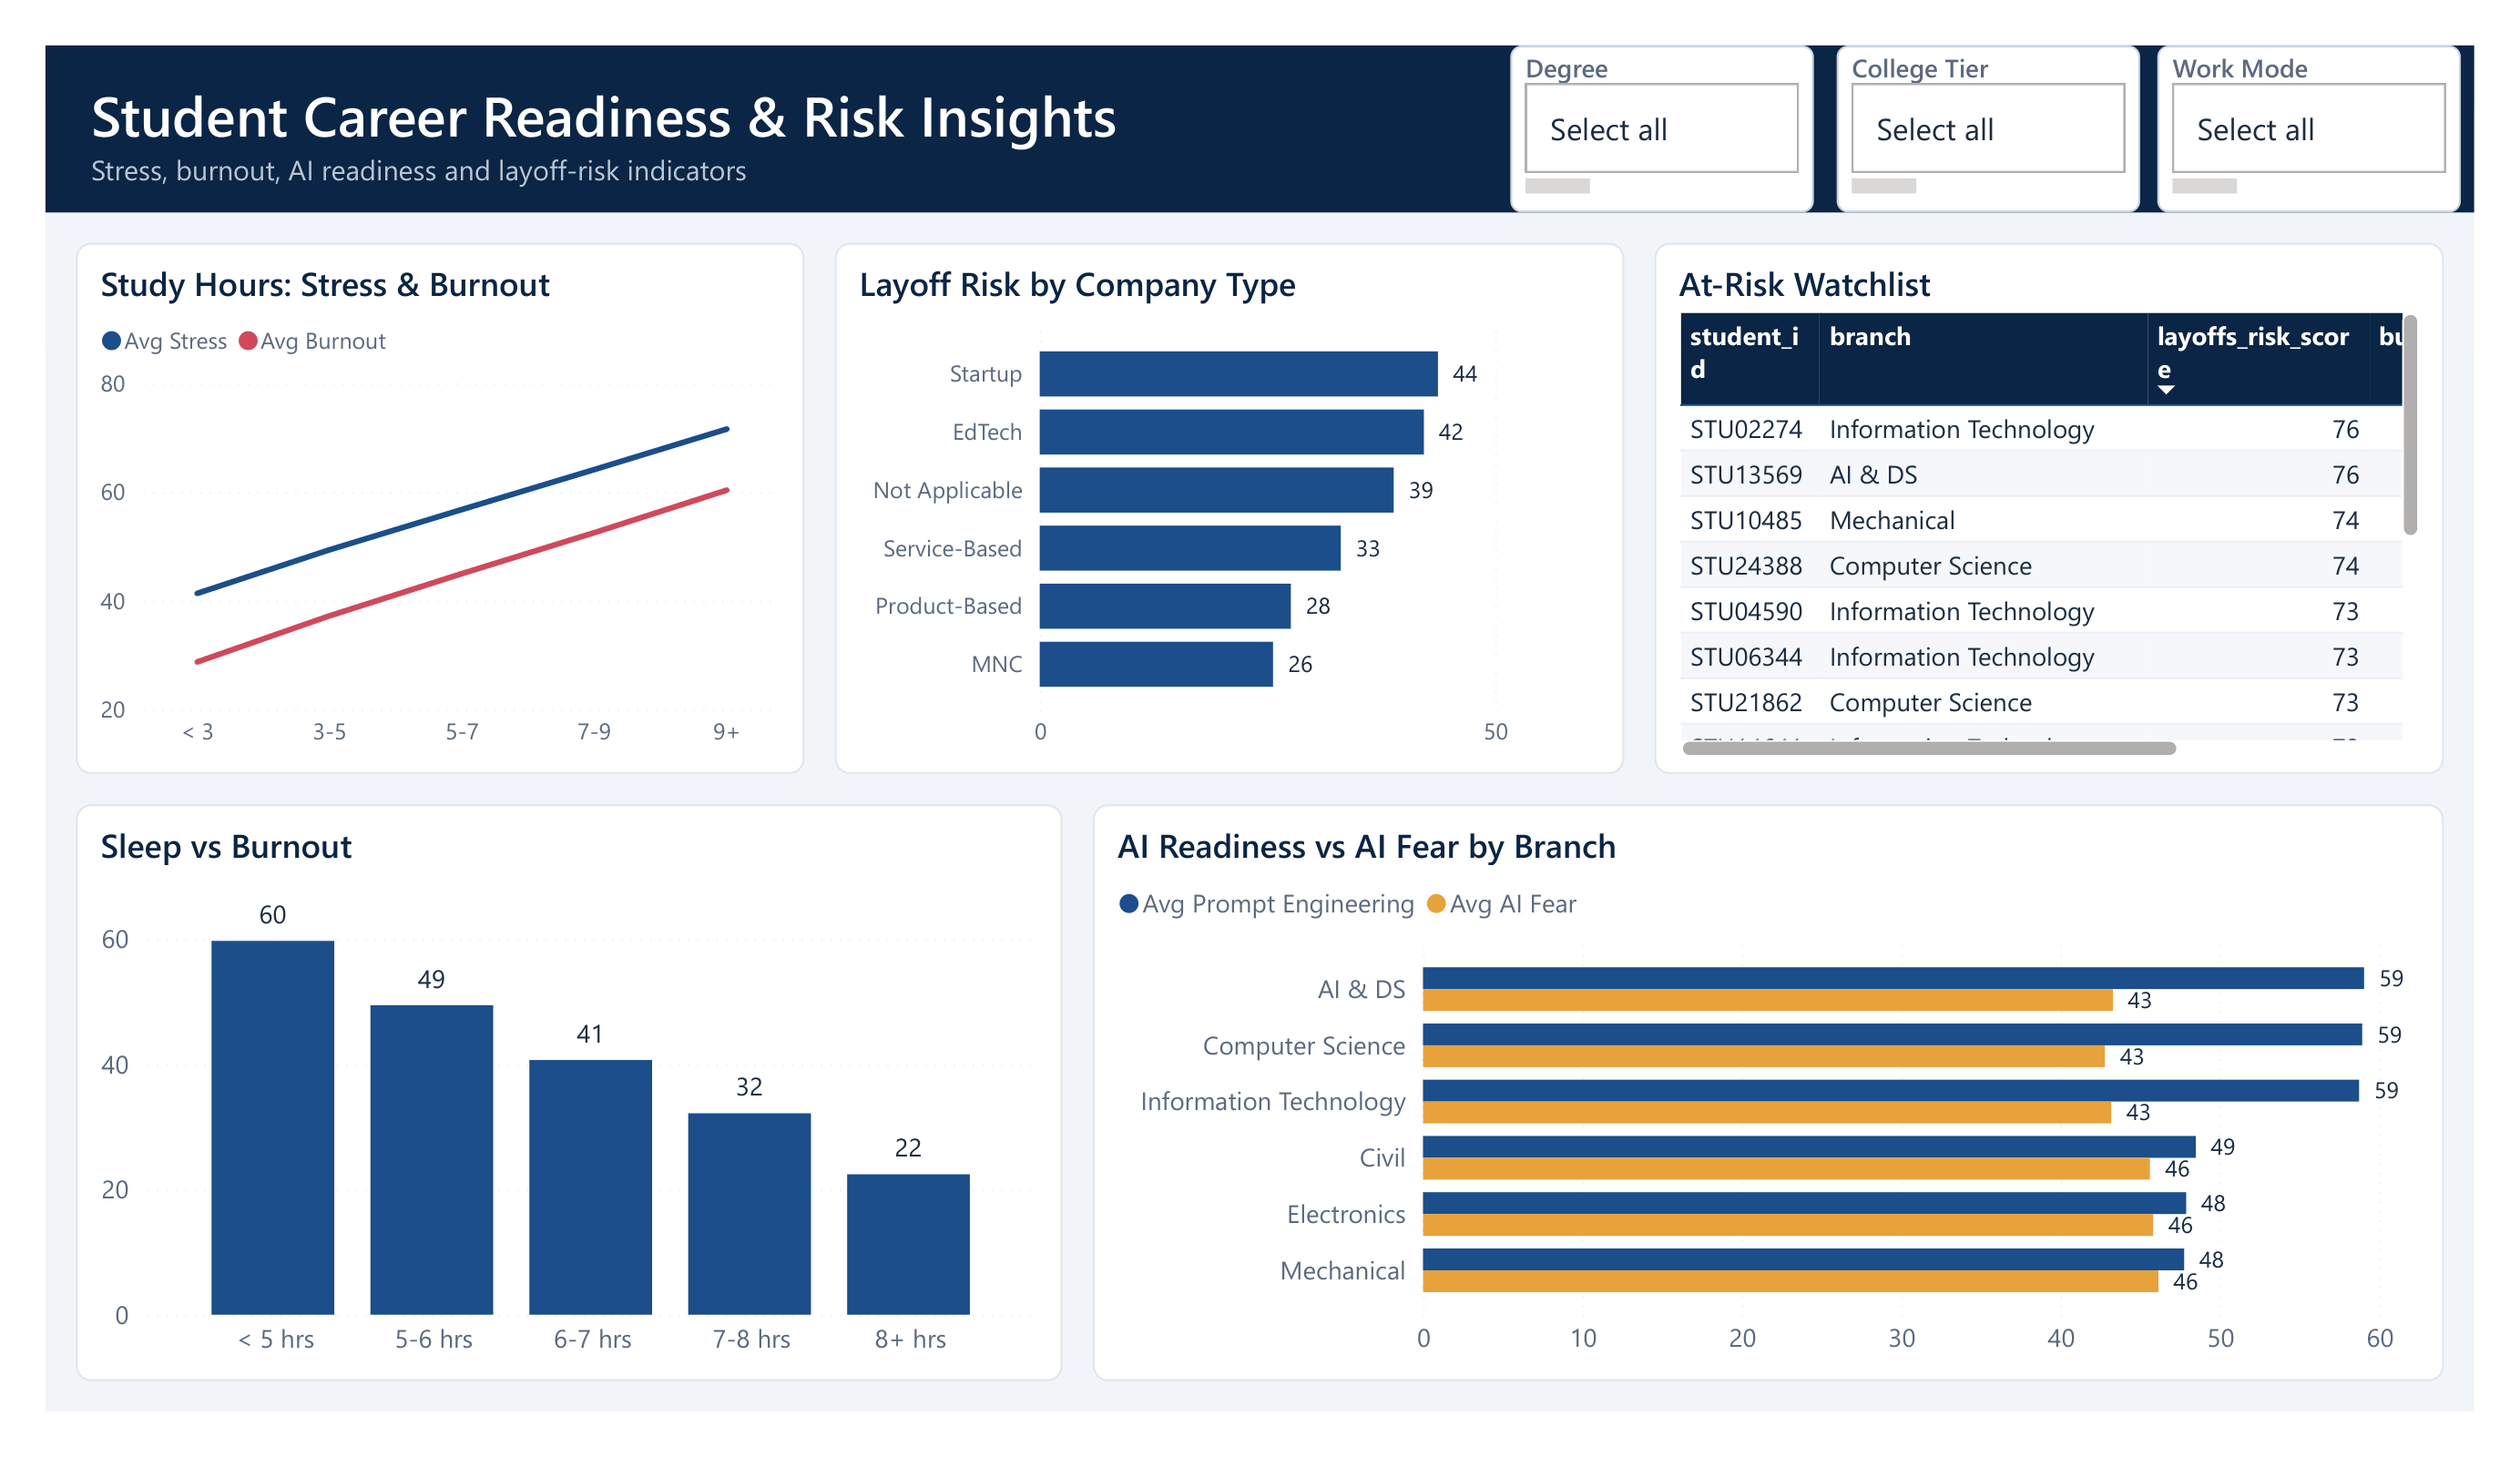

The page's visual inventory and layout, read from the dashboard file:
{"tool":"powerbi","page":{"name":"Career Readiness & Risk","canvas":[1280,720],"ordinal":2},"visuals":[{"type":"textbox","box":[0,0,1280,88],"z":0},{"type":"lineChart","title":"Study Hours: Stress & Burnout","fields":{"Category":["fact_placement.Study Hours Band"],"Y":["_Measures.Avg Stress","_Measures.Avg Burnout"]},"box":[16,104,384,280],"z":1000},{"type":"clusteredBarChart","title":"AI Readiness vs AI Fear by Branch","fields":{"Category":["dim_branch.branch"],"Y":["_Measures.Avg Prompt Engineering","_Measures.Avg AI Fear"]},"box":[552,400,712,304],"z":2000},{"type":"tableEx","title":"At-Risk Watchlist","fields":{"Values":["fact_placement.student_id","dim_branch.branch","fact_placement.layoffs_risk_score","fact_placement.burnout_score","fact_placement.AI_fear_score"]},"box":[848,104,416,280],"z":3000},{"type":"clusteredColumnChart","title":"Sleep vs Burnout","fields":{"Category":["fact_placement.Sleep Band"],"Y":["_Measures.Avg Burnout"]},"box":[16,400,520,304],"z":4000},{"type":"clusteredBarChart","title":"Layoff Risk by Company Type","fields":{"Category":["dim_company.company_type"],"Y":["_Measures.Avg Layoff Risk"]},"box":[416,104,416,280],"z":5000},{"type":"advancedSlicerVisual","title":"Degree","fields":{"Values":["dim_degree.degree"]},"box":[772,0,160,88],"z":5001},{"type":"advancedSlicerVisual","title":"College Tier","fields":{"Values":["dim_college.college_tier_text"]},"box":[944,0,160,88],"z":5002},{"type":"advancedSlicerVisual","title":"Work Mode","fields":{"Values":["fact_placement.work_mode"]},"box":[1113,0,160,88],"z":5003}]}

Visuals, with their boxes on the page's 1280x720 design canvas (x1, y1, x2, y2). These are canvas units, not pixel positions in the 2520x1457 screenshot, which may show the page scaled, cropped or inside an application window:
textbox: (left=0, top=0, right=1280, bottom=88)
"Study Hours: Stress & Burnout" lineChart: (left=16, top=104, right=400, bottom=384)
"AI Readiness vs AI Fear by Branch" clusteredBarChart: (left=552, top=400, right=1264, bottom=704)
"At-Risk Watchlist" tableEx: (left=848, top=104, right=1264, bottom=384)
"Sleep vs Burnout" clusteredColumnChart: (left=16, top=400, right=536, bottom=704)
"Layoff Risk by Company Type" clusteredBarChart: (left=416, top=104, right=832, bottom=384)
"Degree" advancedSlicerVisual: (left=772, top=0, right=932, bottom=88)
"College Tier" advancedSlicerVisual: (left=944, top=0, right=1104, bottom=88)
"Work Mode" advancedSlicerVisual: (left=1113, top=0, right=1273, bottom=88)
